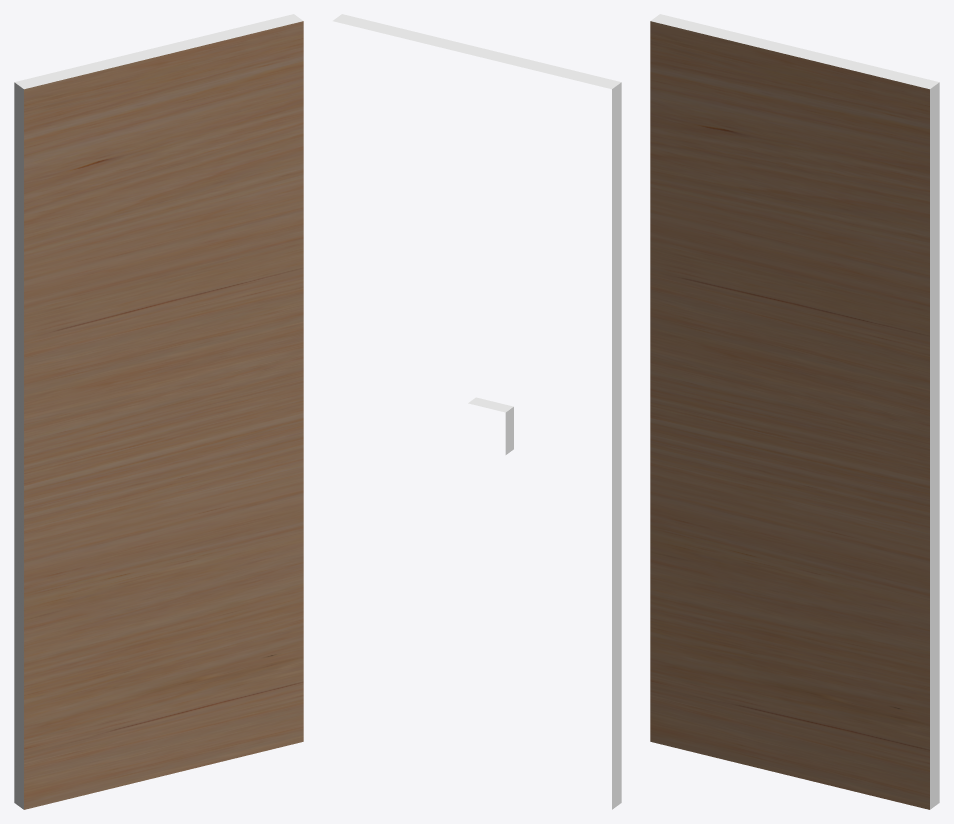
Rendered from door.glb.
3 renders of one model, left to right at view 1: azimuth 30°, elevation 25°; view 2: azimuth 150°, elevation 25°; view 3: azimuth 330°, elevation 25°, orthographic.
Parts seen in each view (by area): view 1: Cube.1-Mat.1, Cube.002; view 2: Cube.002, Cube.003; view 3: Cube.1-Mat.1, Cube.002.
Boxes of the visible parts, x1=… form: Cube.1-Mat.1: x1=24, y1=21, x2=303, y2=809; Cube.002: x1=14, y1=14, x2=302, y2=809; Cube.002: x1=333, y1=14, x2=621, y2=809; Cube.003: x1=468, y1=397, x2=513, y2=454; Cube.1-Mat.1: x1=650, y1=21, x2=929, y2=809; Cube.002: x1=651, y1=14, x2=939, y2=809.
Size of the model in its own units: 43.93 by 108 by 5.5.
Materials: 3 (1 with a texture image).
